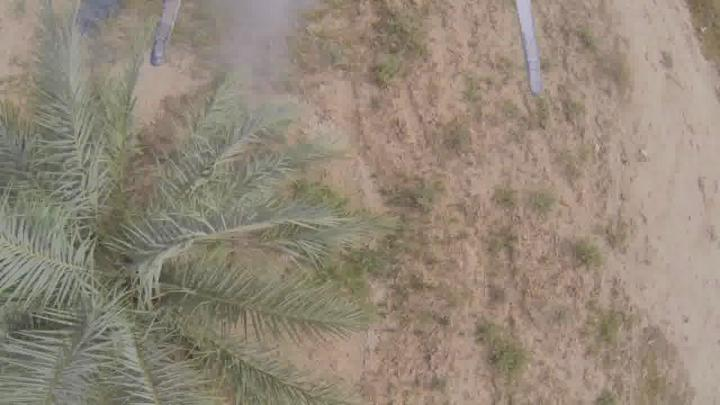Date-Palm-Crown: (0, 130, 246, 394)
